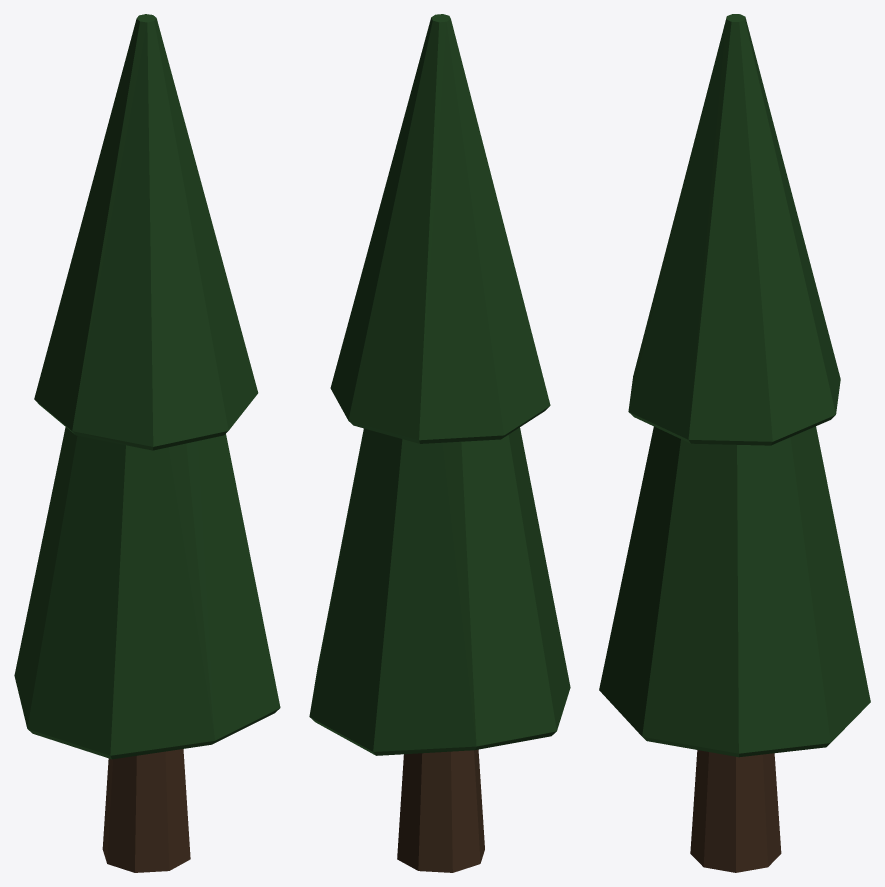
Rendered from tiny_tree.glb.
3 renders of one model, left to right at view 1: azimuth 30°, elevation 25°; view 2: azimuth 150°, elevation 25°; view 3: azimuth 270°, elevation 25°, orthographic.
Parts seen in each view (by area): view 1: Tree_1; view 2: Tree_1; view 3: Tree_1.
Part boxes in pixels (box(x1,y1,x2,y2)): Tree_1: box(14, 14, 280, 872); Tree_1: box(309, 14, 570, 872); Tree_1: box(599, 14, 870, 872).
Size of the model in its own units: 0.4644 by 1.55 by 0.4571.
